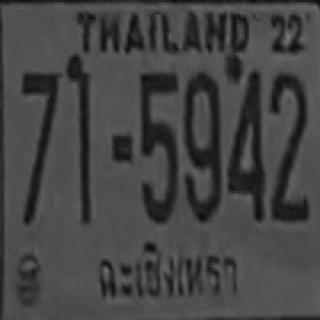N02: (269, 70, 307, 204), (270, 88, 308, 220)
N04: (226, 67, 263, 220)
N05: (140, 70, 177, 156)
N07: (21, 70, 59, 214), (21, 70, 59, 176), (21, 70, 59, 161)
N09: (183, 72, 220, 220)
P07: (90, 237, 246, 306)
